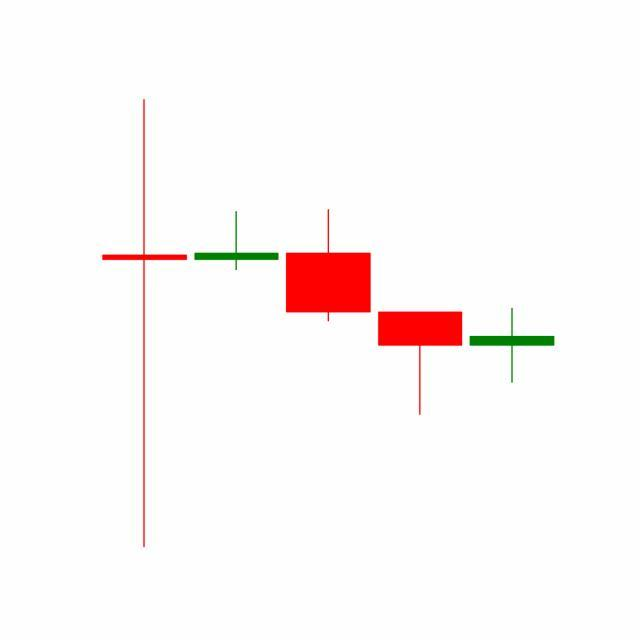Hammer: (374, 311, 468, 417)
